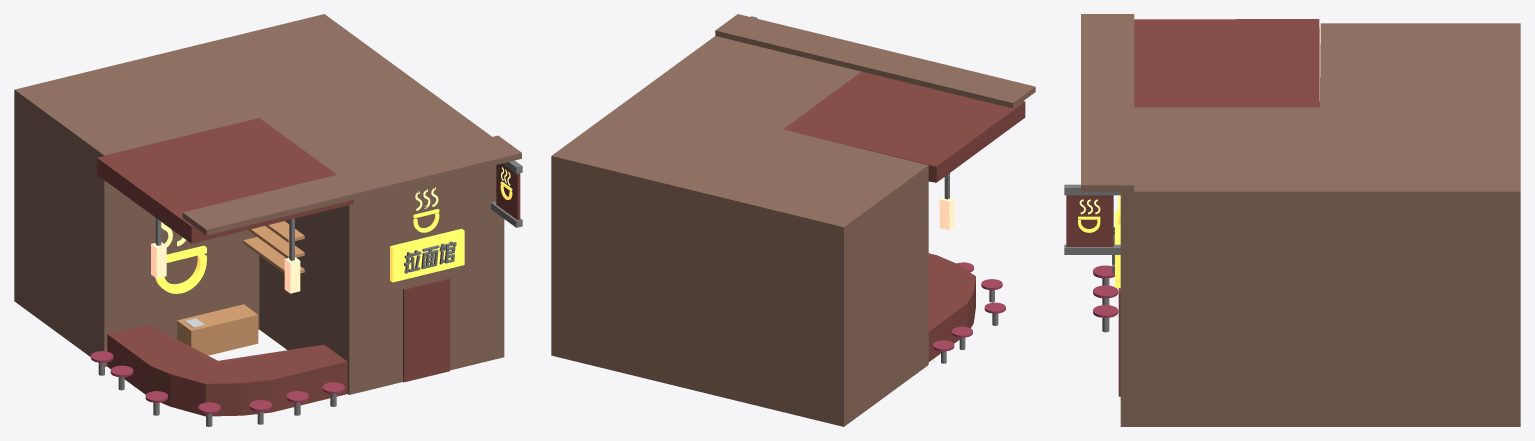
3 views of the same model, side by side, from view 1: azimuth 30°, elevation 25°; view 2: azimuth 150°, elevation 25°; view 3: azimuth 270°, elevation 25° (orthographic). The views are drawn at different scales.
Visible parts, largest first — view 1: Cube.028, Cube.001, Cube, Cube.016, Cube.014, Cube.005, Cube.015, Text.002, Cube.013, Text, Cube.003, Cube.004 (+3 smaller); view 2: Cube.028, Cube.001, Cube.016, Cube, Cube.008; view 3: Cube.028, Cube.001, Cube.016, Cube.013, Cube.012.
Boxes of the visible parts, <box> form: Cube.028: <box>14,14,504,394</box>; Cube.001: <box>97,118,353,243</box>; Cube: <box>107,324,347,416</box>; Cube.016: <box>182,135,521,235</box>; Cube.014: <box>403,278,449,382</box>; Cube.005: <box>177,304,258,355</box>; Cube.015: <box>390,228,464,282</box>; Text.002: <box>155,222,206,293</box>; Cube.013: <box>496,163,520,220</box>; Text: <box>404,241,456,273</box>; Cube.003: <box>248,226,304,258</box>; Cube.004: <box>243,237,304,273</box>; Cube.028: <box>551,36,928,426</box>; Cube.001: <box>783,71,1025,182</box>; Cube.016: <box>715,14,1035,108</box>; Cube: <box>928,253,975,361</box>; Cube.008: <box>939,196,954,229</box>; Cube.028: <box>1120,23,1520,426</box>; Cube.001: <box>1134,19,1319,107</box>; Cube.016: <box>1081,14,1134,191</box>; Cube.013: <box>1066,195,1113,246</box>; Cube.012: <box>1064,244,1120,254</box>.
Bounding box in the file's own units: 13.16 × 8.32 × 14.22.
